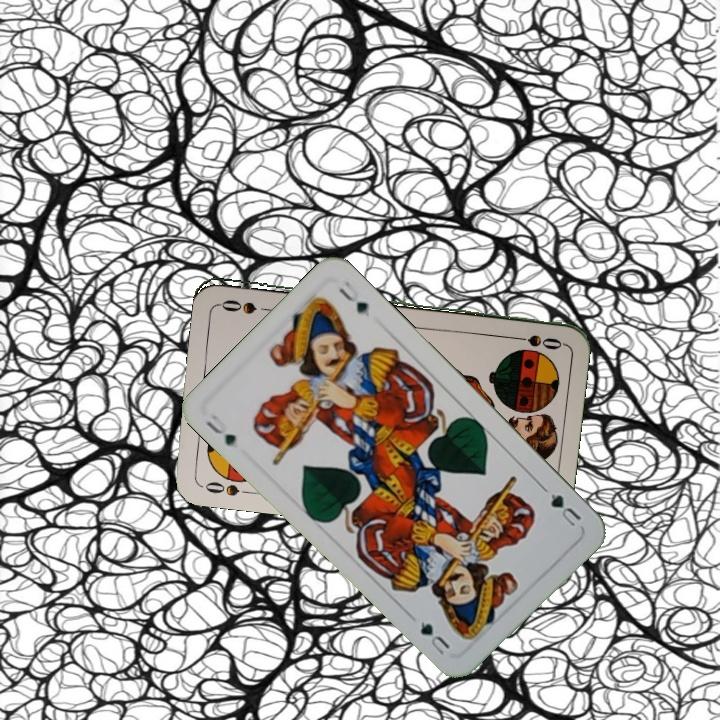GU: (546, 489, 584, 529), (202, 409, 239, 449)
SO: (197, 472, 256, 499), (506, 330, 565, 351)
